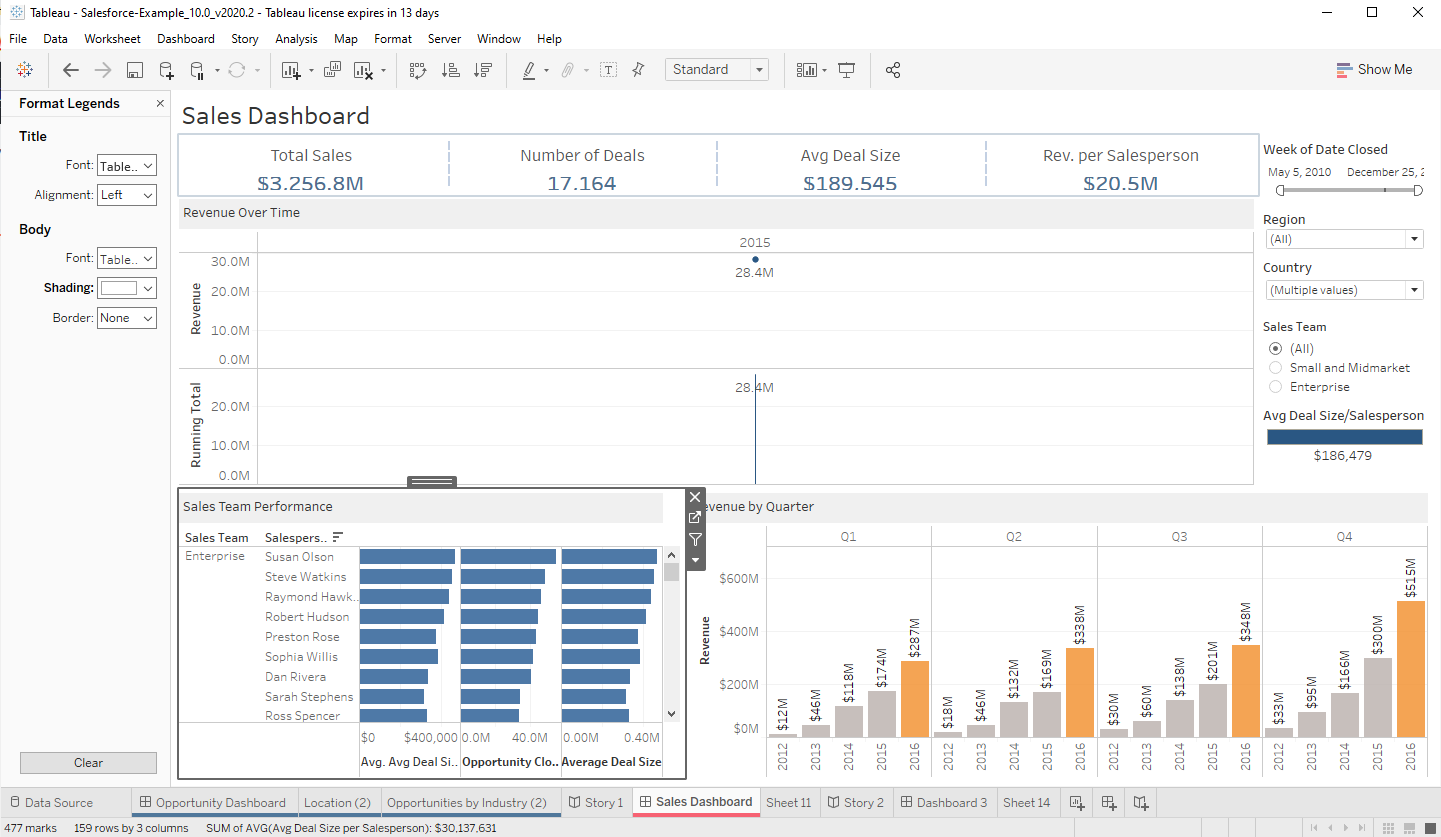

The dashboard page shown, as its layout file describes it:
{"tool":"tableau","page":{"name":"Sales Dashboard","canvas":[1000,1000],"units":"permille","ordinal":1},"visuals":[{"type":"title","box":[0,0,1000,52.9]},{"type":"worksheet","title":"Total Sales","mark":"Automatic","box":[0,52.9,216.7,88.5]},{"type":"worksheet","title":"Number of Deals","mark":"Automatic","box":[216.7,52.9,213.9,88.5]},{"type":"worksheet","title":"Avg Deal Size","mark":"Automatic","box":[430.6,52.9,213.9,88.5]},{"type":"worksheet","title":"Rev. per Salesperson","mark":"Automatic","box":[644.5,52.9,213.9,88.5]},{"type":"filter","title":"Sales","param":"[Salesforce].[twk:Calculation_993325250147745792:qk]","box":[858.4,52.9,138.8,82.3]},{"type":"filter","title":"Sales","param":"[Salesforce].[Country (group)]","box":[858.4,135.1,138.8,56.4]},{"type":"worksheet","title":"Sales","mark":"Automatic","rows":["Opportunity Closed"],"cols":["Calculation_993325250147745792","Calculation_993325250147745792"],"box":[0,141.4,858.4,433.2]},{"type":"filter","title":"Sales","param":"[Salesforce].[none:Account Addr Country:nk]","box":[858.4,191.5,138.8,70.5]},{"type":"filter","title":"Sales Team Performance","param":"[Salesforce].[Salesperson Account (group)]","box":[858.4,262,138.8,103.4]},{"type":"legend","title":"Sales","param":"[Salesforce].[avg:Calculation_3130208143458615:qk]","box":[858.4,365.4,138.8,81.1]},{"type":"worksheet","title":"Sales Team Performance","mark":"Automatic","rows":["Salesperson Account"],"cols":["Opportunity Closed","Calculation_9390319164505382"],"box":[0,574.6,544.2,425.4]},{"type":"worksheet","title":"Q-over-Q","mark":"Bar","rows":["Opportunity Max Amount"],"cols":["Calculation_993325250147745792","Calculation_993325250147745792"],"box":[544.2,574.6,453,425.4]}]}

Visuals, with their boxes on the dashboard's canvas, which has no fixed pixel size, in thousandths of its width and height (x1, y1, x2, y2). These are canvas units, not pixel positions in the 1441x837 screenshot, which may show the page scaled, cropped or inside an application window:
title: <box>0,0,1000,53</box>
"Total Sales" worksheet: <box>0,53,217,141</box>
"Number of Deals" worksheet: <box>217,53,431,141</box>
"Avg Deal Size" worksheet: <box>431,53,644,141</box>
"Rev. per Salesperson" worksheet: <box>644,53,858,141</box>
"Sales" filter: <box>858,53,997,135</box>
"Sales" filter: <box>858,135,997,192</box>
"Sales" worksheet: <box>0,141,858,575</box>
"Sales" filter: <box>858,192,997,262</box>
"Sales Team Performance" filter: <box>858,262,997,365</box>
"Sales" legend: <box>858,365,997,446</box>
"Sales Team Performance" worksheet: <box>0,575,544,1000</box>
"Q-over-Q" worksheet (Bar marks): <box>544,575,997,1000</box>
